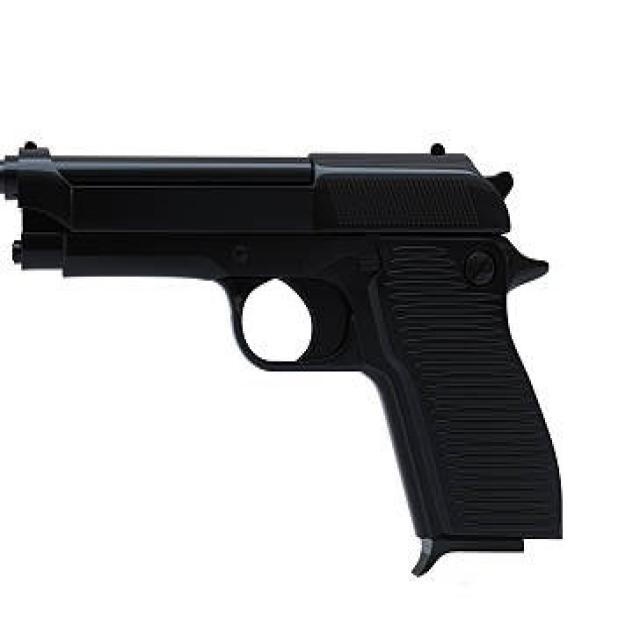pistol: (1, 137, 571, 577)
